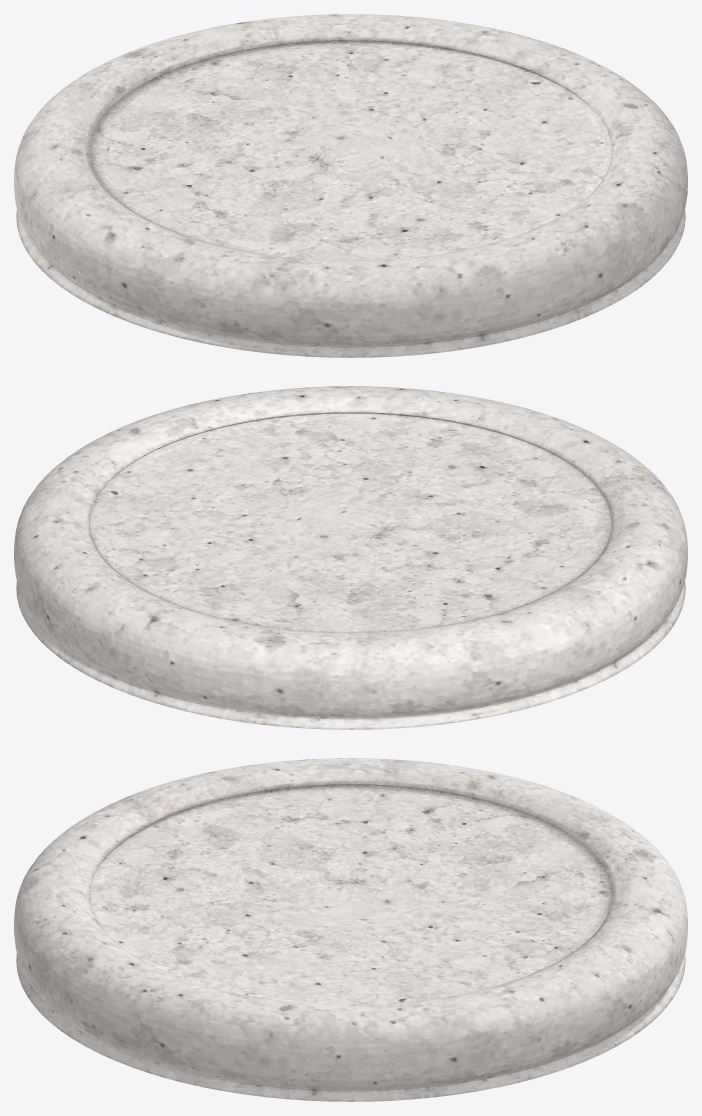
File: yinsh-marker-white.glb
The picture shows the model from 3 angles, top to bottom: view 1: azimuth 30°, elevation 25°; view 2: azimuth 150°, elevation 25°; view 3: azimuth 270°, elevation 25°; orthographic projection.
Visible parts, largest first — view 1: yinsh-marker-white; view 2: yinsh-marker-white; view 3: yinsh-marker-white.
Part boxes in pixels (x1,y1,x2,y2): yinsh-marker-white: (14, 14, 687, 357); yinsh-marker-white: (14, 386, 687, 729); yinsh-marker-white: (14, 758, 687, 1101).
Bounding box in the file's own units: 0.0207 × 0.00256 × 0.0207.
Materials: 1 (1 with a texture image).
